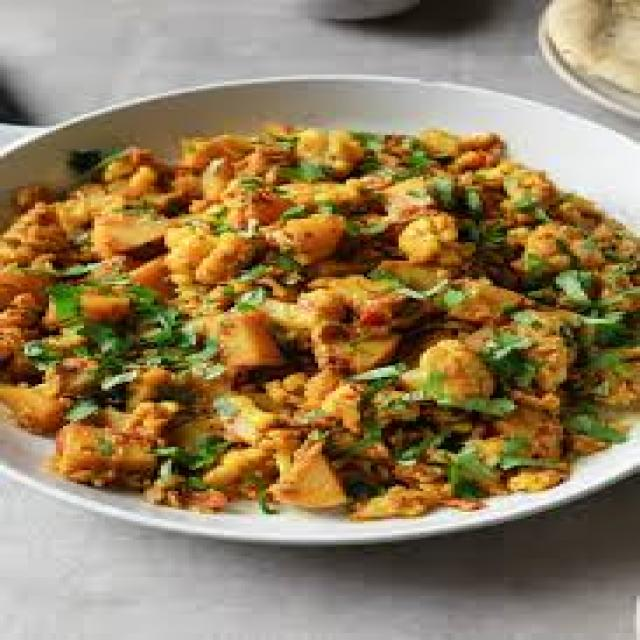Aloo Gobi: (8, 120, 625, 520)
